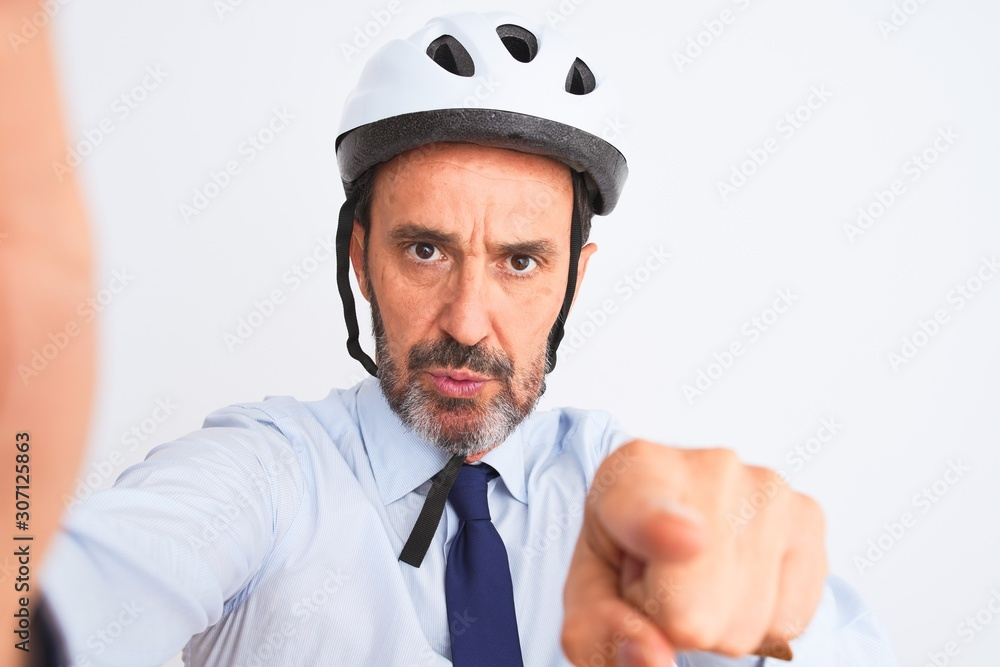helmet: (334, 11, 630, 456)
